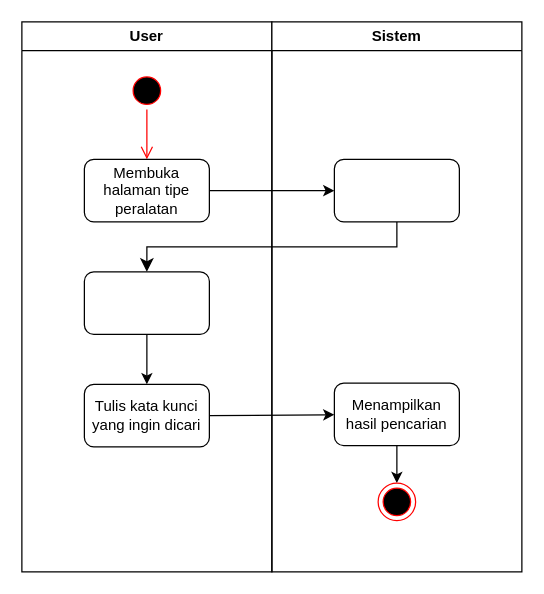
The diagram is 544 pixels wide and 594 high, and some of its shapes have lost their labels. Each missing label, with the centre of its shape:
Menampilkan halaman unit: (396,190)
Pilih tanda cari data: (146,302)
